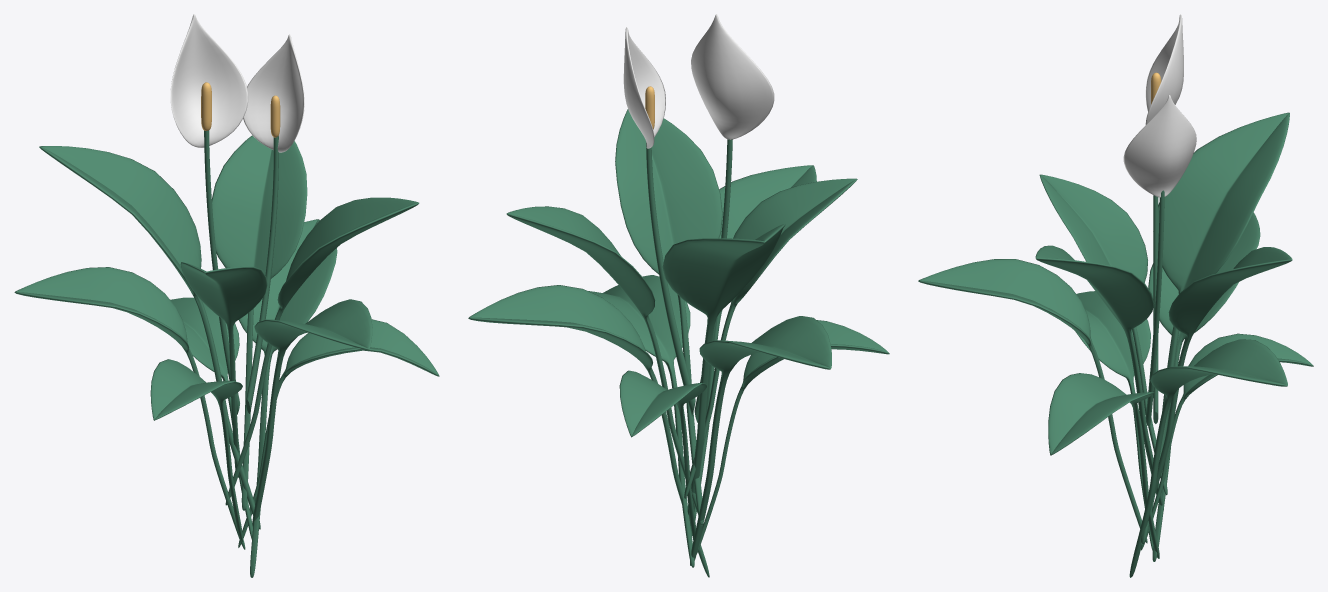
The model's file is lily.glb.
3 views of the same model, side by side, from view 1: azimuth 30°, elevation 25°; view 2: azimuth 150°, elevation 25°; view 3: azimuth 270°, elevation 25° (orthographic). The views are drawn at different scales.
Visible parts, largest first — view 1: Plane.061; view 2: Plane.061; view 3: Plane.061.
Boxes of the visible parts, x1=… form: Plane.061: x1=14, y1=14, x2=439, y2=577; Plane.061: x1=468, y1=14, x2=889, y2=577; Plane.061: x1=918, y1=14, x2=1313, y2=577.
Bounding box in the file's own units: 16.84 × 27.54 × 18.02.
